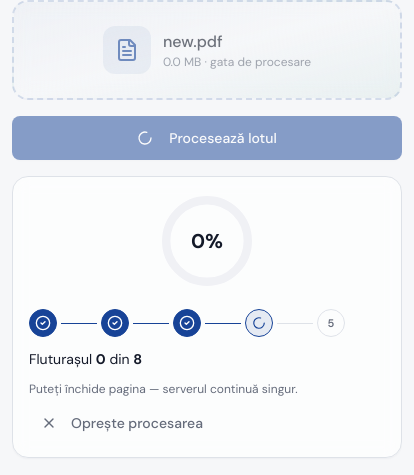
Scenario: payslip upload recovery › allows an operator to stop processing without deleting saved slips
Earlier steps of the test are not shown.
Step 1. Click the button "Oprește procesarea" → (122, 423), box [29,405,215,441]
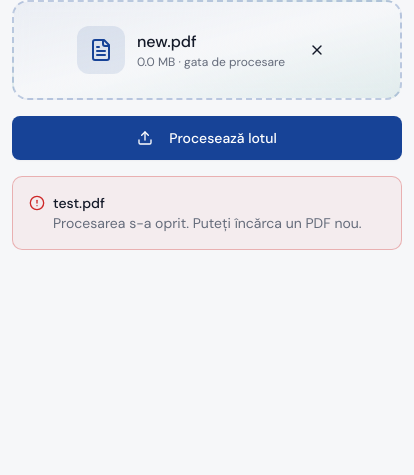
Expected: the button "Procesează lotul" is enabled, [12,116,402,160]
